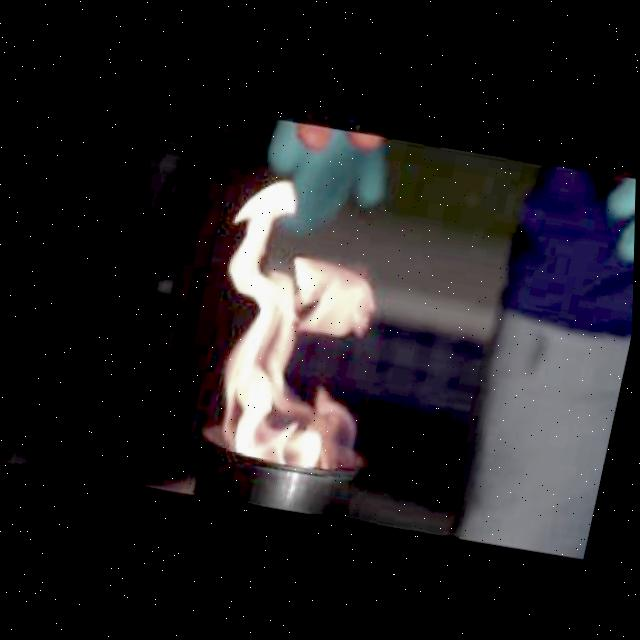Fire: (179, 155, 413, 491)
